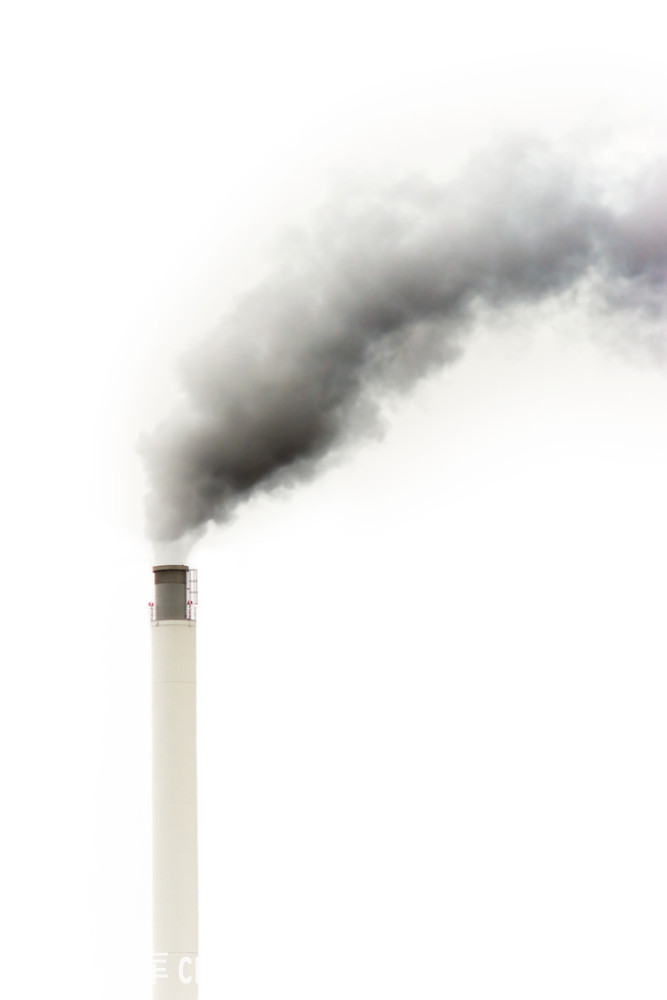dust: (120, 248, 410, 585)
